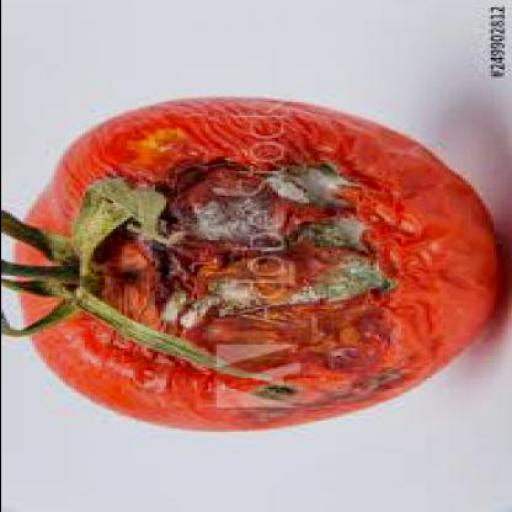biodegradable: (1, 98, 496, 436)
